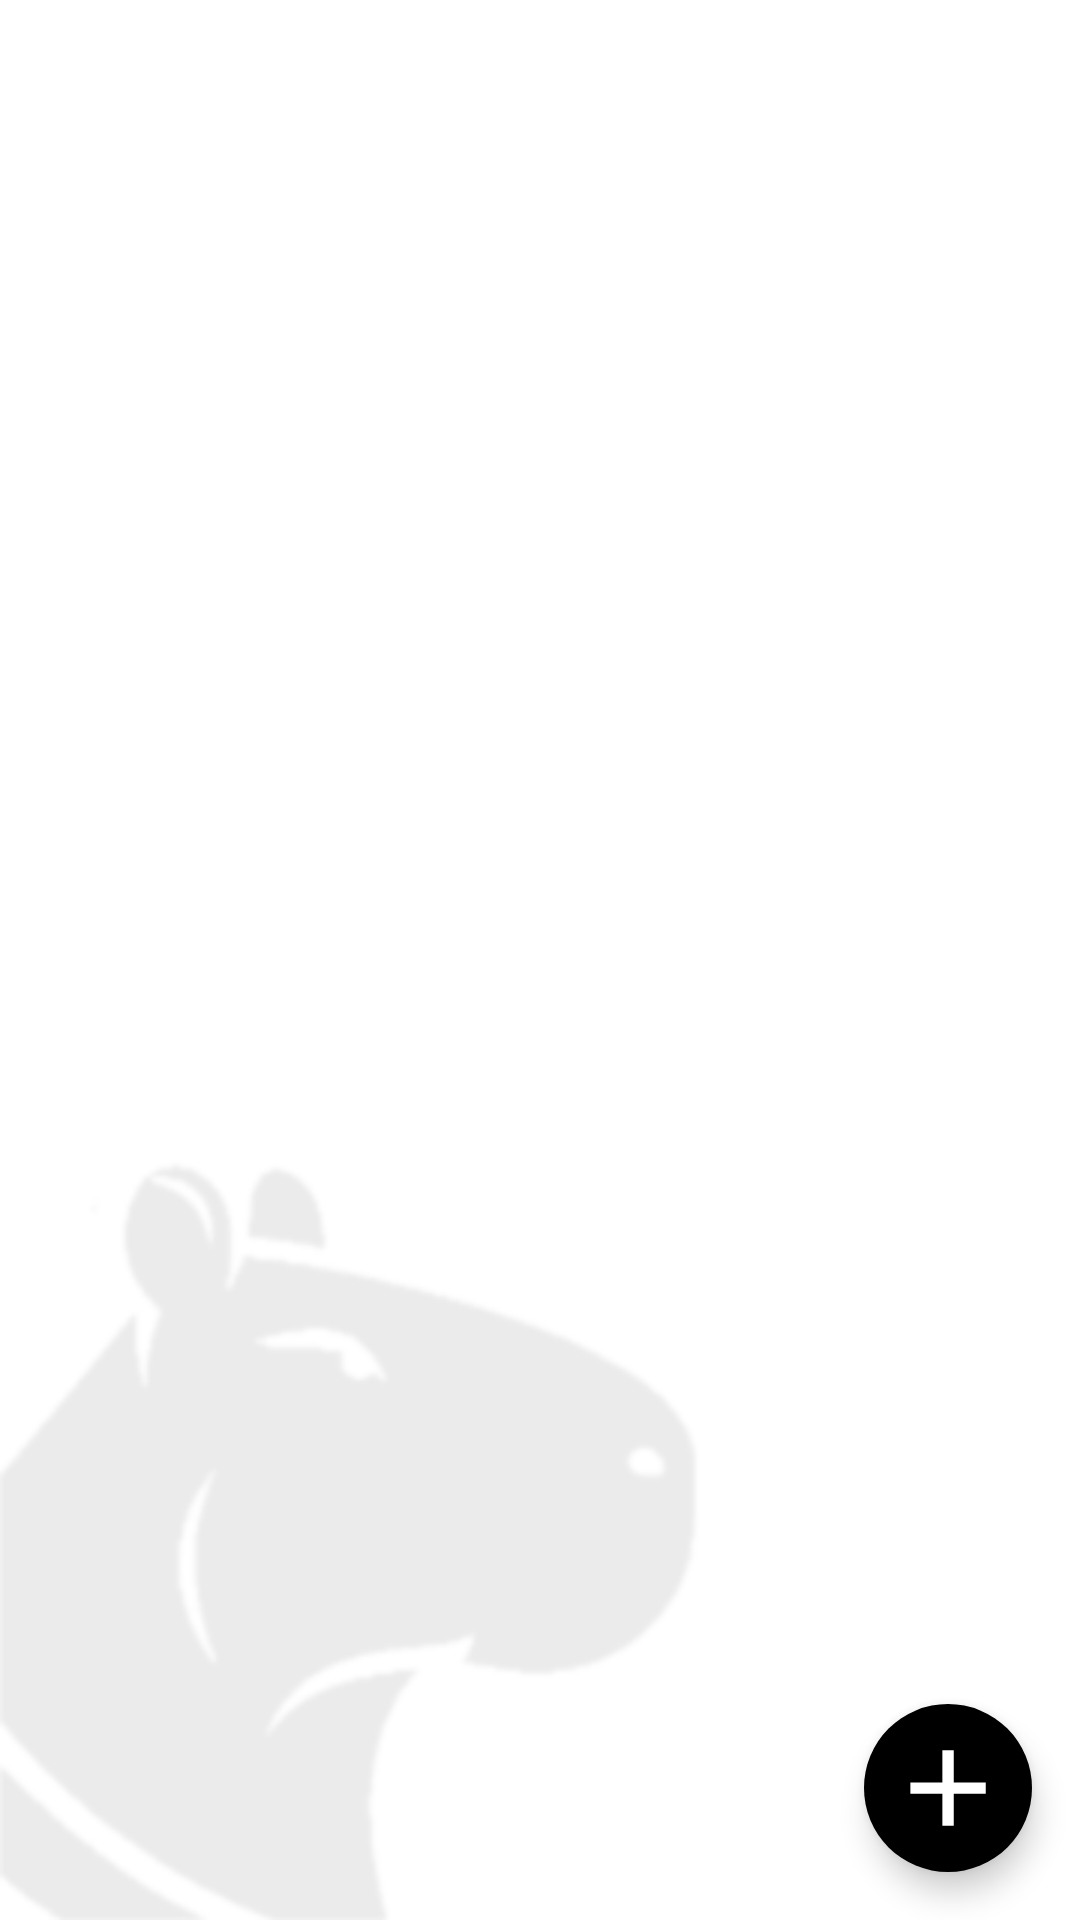

Screen size 1080px×1920px. Icon name, then its box in pixels as [left=x1, top=y1, right=x2, bottom=y2]:
Add a new conversation: [left=864, top=1704, right=1032, bottom=1872]
